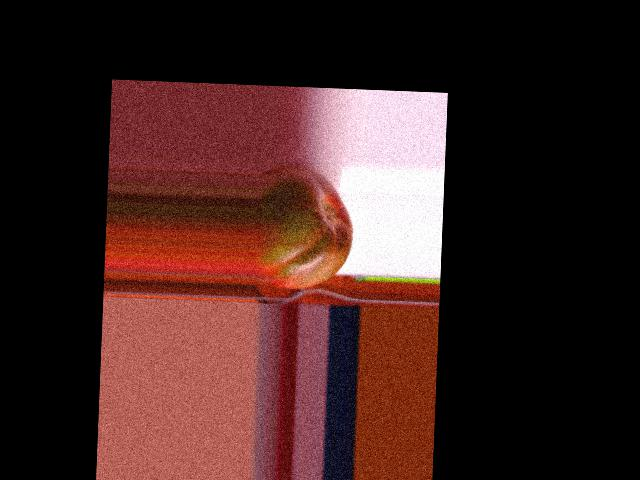tomato: (255, 166, 355, 291)
